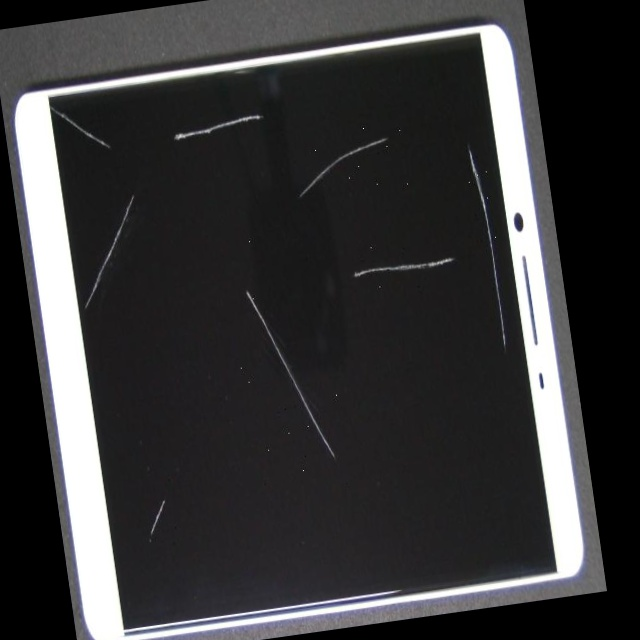scratch: (56, 22, 403, 556), (209, 0, 570, 374), (167, 123, 529, 484), (141, 86, 442, 347), (54, 258, 196, 640)
